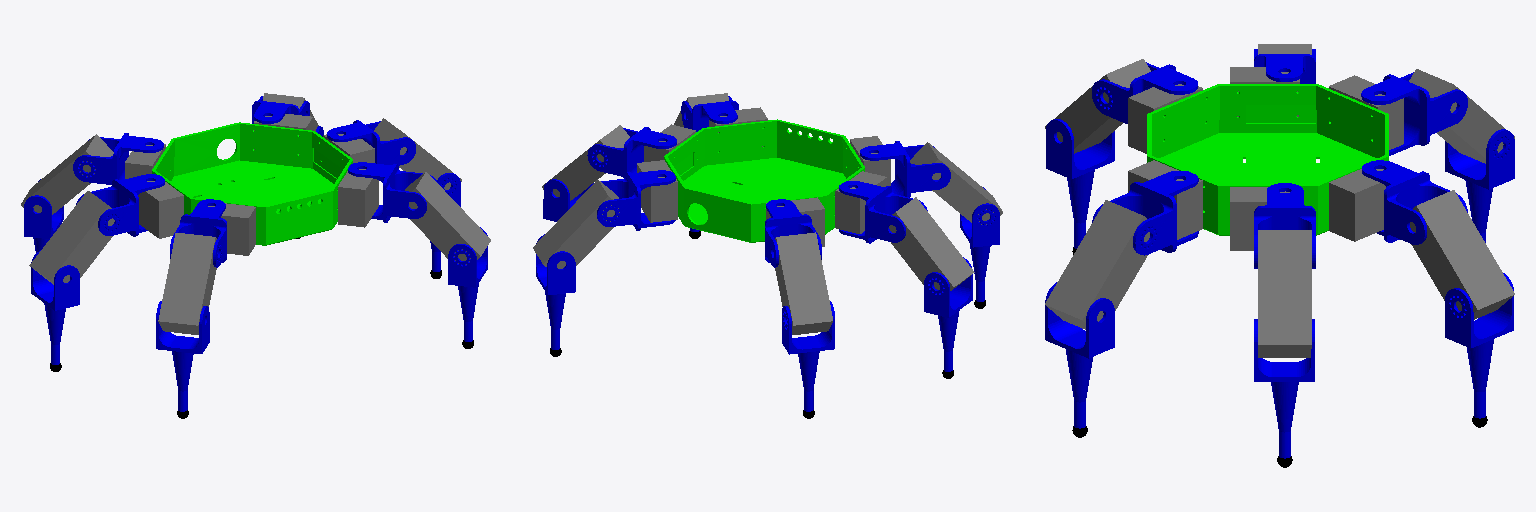
--- Render facts (derived) ---
The picture shows the robot from 3 angles, left to right: view 1: azimuth 30°, elevation 25°; view 2: azimuth 150°, elevation 25°; view 3: azimuth 270°, elevation 25°; orthographic projection.
Model hexapod with 37 links and 36 joints (18 revolute, 18 fixed), rooted at box, posed every joint at zero.
Visible links, largest first — view 1: box, joint_4, joint_0, foot_4, servomotor_16, joint_3, servomotor_17, servomotor_13, foot_5, foot_0, servomotor_12, servomotor_0 (+14 smaller); view 2: box, joint_4, joint_2, joint_5, foot_4, servomotor_10, joint_1, servomotor_11, foot_2, servomotor_13, foot_3, foot_5 (+15 smaller); view 3: box, foot_0, foot_2, joint_0, joint_3, servomotor_5, servomotor_1, joint_2, foot_5, servomotor_7, foot_3, servomotor_6 (+17 smaller).
Boxes of the visible links, bbox=[...] form: box: bbox=[152, 122, 352, 245]; joint_4: bbox=[76, 174, 164, 236]; joint_0: bbox=[348, 162, 437, 222]; foot_4: bbox=[31, 250, 79, 364]; servomotor_16: bbox=[166, 233, 216, 295]; joint_3: bbox=[73, 133, 163, 184]; servomotor_17: bbox=[158, 272, 210, 334]; servomotor_13: bbox=[55, 191, 114, 261]; foot_5: bbox=[156, 301, 209, 411]; foot_0: bbox=[448, 227, 487, 341]; servomotor_12: bbox=[138, 181, 183, 238]; servomotor_0: bbox=[338, 169, 378, 227]; box: bbox=[664, 119, 864, 242]; joint_4: bbox=[839, 181, 927, 243]; joint_2: bbox=[586, 170, 675, 230]; joint_5: bbox=[860, 141, 950, 197]; foot_4: bbox=[924, 257, 972, 371]; servomotor_10: bbox=[775, 232, 825, 295]; joint_1: bbox=[587, 127, 676, 177]; servomotor_11: bbox=[781, 272, 832, 334]; foot_2: bbox=[536, 234, 575, 349]; servomotor_13: bbox=[889, 197, 948, 267]; foot_3: bbox=[782, 301, 834, 411]; foot_5: bbox=[960, 187, 999, 301]; box: bbox=[1147, 84, 1388, 235]; foot_0: bbox=[1045, 282, 1114, 428]; foot_2: bbox=[1445, 273, 1513, 418]; joint_0: bbox=[1092, 171, 1198, 255]; joint_3: bbox=[1361, 72, 1467, 155]; servomotor_5: bbox=[1258, 280, 1311, 357]; servomotor_1: bbox=[1071, 200, 1149, 290]; joint_2: bbox=[1362, 160, 1467, 244]; foot_5: bbox=[1046, 119, 1114, 248]; servomotor_7: bbox=[1410, 190, 1488, 279]; foot_3: bbox=[1445, 129, 1514, 242]; servomotor_6: bbox=[1329, 169, 1385, 241].
Size in the robot's own frame: 0.3985 by 0.3063 by 0.1554 metres.
Meshes: 3 distinct files referenced, 13 mesh visuals loaded (3 binary STL).

robot.urdf — hexapod:
<?xml version="1.0" ?>

<robot name="hexapod">
  <link name="box">
    <!-- We count all component within the box as the box
    (NanoPi, pcb, connectors included) -->
    <collision>
      <origin xyz="0 0 0.203" rpy="0 0 0" />
      <geometry>
        <!-- Putting here an octogone might be a nice optimization -->
        <mesh filename="meshes/box.stl" scale="0.001 0.001 0.001" />
      </geometry>
    </collision>
    <visual>
      <origin xyz="0 0 0.203" rpy="0 0 0" />
      <geometry>
        <mesh filename="meshes/box.stl" scale="0.001 0.001 0.001" />
      </geometry>
      <material name="Green">
        <color rgba="0.0 1.0 0.0 1.0"/>
      </material>
    </visual>
    <inertial>
      <origin xyz="0 0 0.203" rpy="0 0 0" />
      <mass value="0.667" />
      <!-- Let's consider the core of the robot homogeneous -->
      <inertia ixx="0.0011546458242062" ixy="-0.0000000000020962" ixz="-0.0000000000002841" iyy="0.0011546459440935" iyz="-0.0000000000000000" izz="0.0021742915988320" />
    </inertial>
  </link>

  
  <!-- Leg 0 -->
  <joint name="fixed_box_servomotor_0" type="fixed">
    <origin xyz="0.06521292289492935 -0.06521292289492935 0.2041193" rpy="0 0 -0.78539" />
    <parent link="box" />
    <child link="servomotor_0" />
  </joint>
  <link name="servomotor_0">
    <collision>
      <origin xyz="0 -0.002 0" rpy="0 0 0" />
      <geometry>
        <box size="0.024 0.0451 0.0347" />
      </geometry>
    </collision>
    <visual>
      <origin xyz="0 -0.002 0" rpy="0 0 0" />
      <geometry>
        <box size="0.024 0.0451 0.0347" />
      </geometry>
      <material name="Grey">
        <color rgba="0.5 0.5 0.5 1.0"/>
      </material>
    </visual>
    <inertial>
      <origin xyz="0 0 0" rpy="0 0 0" />
      <mass value="0.047" />
      <!-- Let's consider the servomotor homogeneous -->
      <inertia ixx="0.000269" ixy="0" ixz="0" iyy="0.00014834" iyz="0" izz="0.0002175" />
    </inertial>
  </link>
  <joint name="servomotor_0" type="revolute">
    <origin xyz="0 0.011 0" rpy="0 0 0" />
    <parent link="servomotor_0" />
    <child link="joint_0" />
    <axis xyz="0 0 1" />
    <dynamics damping="0" friction="0" /> <!-- TODO -->
    <!-- Herkulex : 361.4°/s i.e. 6.308rad/s, 12kg.cm i.e. 1.18Nm -->
    <limit effort="1.18" velocity="6.308" lower="-0.46" upper="0.46" /> <!-- TODO -->
  </joint>
  <link name="joint_0">
    <collision>
      <origin xyz="0.02432 0 0" rpy="0 0 0" />
      <geometry>
        <box size="0.025 0.040 0.040" />
      </geometry>
    </collision>
    <visual>
      <origin xyz="0.02432 0 0" rpy="0 0 0" />
      <geometry>
        <mesh filename="meshes/joint.stl" scale="0.001 0.001 0.001" />
      </geometry>
      <material name="Blue">
        <color rgba="0.0 0.0 1.0 1.0"/>
      </material>
    </visual>
    <inertial>
      <origin xyz="0.02432 0 0" rpy="0 0 0" />
      <mass value="0.011" />
      <inertia ixx="0.0000036847327983" ixy="0.0000000282538243" ixz="0.0000000324768551" iyy="0.0000040337912502" iyz="-0.0000000006925946" izz="0.0000040276641002" />
    </inertial>
  </link>
  <joint name="servomotor_1" type="revolute">
    <origin xyz="0.049 0 0" rpy="1.5707963267948966 -0.7853981633974483 0" />
    <parent link="joint_0" />
    <child link="servomotor_1" />
    <axis xyz="0 0 1" />
    <dynamics damping="0" friction="0" /> <!-- TODO -->
    <!-- Herkulex : 361.4°/s i.e. 6.308rad/s, 12kg.cm i.e. 1.18Nm -->
    <limit effort="1.18" velocity="6.308" lower="-1.57" upper="1.57" /> <!-- TODO -->
  </joint>
  <link name="servomotor_1">
    <collision>
      <origin xyz="0 -0.0127 0" rpy="0 0 0" />
      <geometry>
        <box size="0.024 0.0451 0.0347" />
      </geometry>
    </collision>
    <visual>
      <origin xyz="0 -0.0127 0" rpy="0 0 0" />
      <geometry>
        <box size="0.024 0.0451 0.0347" />
      </geometry>
      <material name="Grey">
        <color rgba="0.5 0.5 0.5 1.0"/>
      </material>
    </visual>
    <inertial>
      <origin xyz="0 -0.0107 0" rpy="0 0 0" />
      <mass value="0.047" />
      <!-- Let's consider the servomotor homogeneous -->
      <inertia ixx="0.000269" ixy="0" ixz="0" iyy="0.00014834" iyz="0" izz="0.0002175" />
    </inertial>
  </link>
  <joint name="fixed_servomotor_1_servomotor_2" type="fixed">
    <origin xyz="0 -0.0495 0" rpy="0 0 3.141592653589793" />
    <parent link="servomotor_1" />
    <child link="servomotor_2" />
  </joint>
  <link name="servomotor_2">
    <collision>
      <origin xyz="0 -0.002 0" rpy="0 0 0" />
      <geometry>
        <box size="0.024 0.0451 0.0347" />
      </geometry>
    </collision>
    <visual>
      <origin xyz="0 -0.002 0" rpy="0 0 0" />
      <geometry>
        <box size="0.024 0.0451 0.0347" />
      </geometry>
      <material name="Grey">
        <color rgba="0.5 0.5 0.5 1.0"/>
      </material>
    </visual>
    <inertial>
      <origin xyz="0 0 0" rpy="0 0 0" />
      <mass value="0.047" />
      <!-- Let's consider the servomotor homogeneous -->
      <inertia ixx="0.000269" ixy="0" ixz="0" iyy="0.00014834" iyz="0" izz="0.0002175" />
    </inertial>
  </link>
  <joint name="servomotor_2" type="revolute">
    <origin xyz="0 0.0107 0" rpy="0 0 -0.7853981633974483" />
    <parent link="servomotor_2" />
    <child link="foot_0" />
    <axis xyz="0 0 1" />
    <dynamics damping="0" friction="0" /> <!-- TODO -->
    <!-- Herkulex : 361.4°/s i.e. 6.308rad/s, 12kg.cm i.e. 1.18Nm -->
    <limit effort="1.18" velocity="6.308" lower="-1.57" upper="1.57" /> <!-- TODO -->
  </joint>
  <link name="foot_0">
    <collision>
      <origin xyz="0 0.0406 0" rpy="1.5707963267948966 0 0" />
      <geometry>
        <box size="0.024 0.040 0.08" />
      </geometry>
    </collision>
    <visual>
      <origin xyz="0 0.031 0" rpy="1.5707963267948966 0 0" />
      <geometry>
        <mesh filename="meshes/foot.stl" scale="0.001 0.001 0.001" />
      </geometry>
      <material name="Blue">
        <color rgba="0.0 0.0 1.0 1.0"/>
      </material>
    </visual>
    <inertial>
      <origin xyz="0 0.031 0" rpy="1.5707963267948966 0 0" />
      <mass value="0.0105" />
      <inertia ixx="0.0000056249300217" ixy="-0.0000000007514029" ixz="0.0000000005912555" iyy="0.0000045683501941" iyz="0.0000000202704742" izz="0.0000017085021793" />
    </inertial>
  </link>
  <joint name="fixed_foot_0_endcap_0" type="fixed">
    <origin xyz="0 0.088 0" rpy="0 0 0" />
    <parent link="foot_0" />
    <child link="endcap_0" />
  </joint>
  <link name="endcap_0">
    <collision>
      <origin xyz="0 0 0" rpy="0 0 0" />
      <geometry>
        <sphere radius="0.005" />
      </geometry>
    </collision>
    <visual>
      <origin xyz="0 0 0" rpy="0 0 0" />
      <geometry>
        <sphere radius="0.005" />
      </geometry>
      <material name="BlackRubber">
        <color rgba="0.0 0.0 0.0 1.0"/>
      </material>
    </visual>
    <inertial>
      <origin xyz="0 0 0" rpy="0 0 0" />
      <mass value="0.0005" />
      <!-- endcap has a negligeable inertia -->
      <inertia ixx="0.0" ixy="0.0" ixz="0.0" iyy="0.0" iyz="0.0" izz="0.0" />
    </inertial>
    <contact>
      <lateral_friction value="1.0"/> <!-- TODO -->
      <stiffness value="30000"/> <!-- TODO -->
      <damping value="1000"/> <!-- TODO -->
    </contact>
  </link>
  
  <!-- Leg 1 -->
  <joint name="fixed_box_servomotor_3" type="fixed">
    <origin xyz="0.092225 0.0 0.2041193" rpy="0 0 0.0" />
    <parent link="box" />
    <child link="servomotor_3" />
  </joint>
  <link name="servomotor_3">
    <collision>
      <origin xyz="0 -0.002 0" rpy="0 0 0" />
      <geometry>
        <box size="0.024 0.0451 0.0347" />
      </geometry>
    </collision>
    <visual>
      <origin xyz="0 -0.002 0" rpy="0 0 0" />
      <geometry>
        <box size="0.024 0.0451 0.0347" />
      </geometry>
      <material name="Grey">
        <color rgba="0.5 0.5 0.5 1.0"/>
      </material>
    </visual>
    <inertial>
      <origin xyz="0 0 0" rpy="0 0 0" />
      <mass value="0.047" />
      <!-- Let's consider the servomotor homogeneous -->
      <inertia ixx="0.000269" ixy="0" ixz="0" iyy="0.00014834" iyz="0" izz="0.0002175" />
    </inertial>
  </link>
  <joint name="servomotor_3" type="revolute">
    <origin xyz="0 0.011 0" rpy="0 0 0" />
    <parent link="servomotor_3" />
    <child link="joint_1" />
    <axis xyz="0 0 1" />
    <dynamics damping="0" friction="0" /> <!-- TODO -->
    <!-- Herkulex : 361.4°/s i.e. 6.308rad/s, 12kg.cm i.e. 1.18Nm -->
    <limit effort="1.18" velocity="6.308" lower="-0.46" upper="0.46" /> <!-- TODO -->
  </joint>
  <link name="joint_1">
    <collision>
      <origin xyz="0.02432 0 0" rpy="0 0 0" />
      <geometry>
        <box size="0.025 0.040 0.040" />
      </geometry>
    </collision>
    <visual>
      <origin xyz="0.02432 0 0" rpy="0 0 0" />
      <geometry>
        <mesh filename="meshes/joint.stl" scale="0.001 0.001 0.001" />
      </geometry>
      <material name="Blue">
        <color rgba="0.0 0.0 1.0 1.0"/>
      </material>
    </visual>
    <inertial>
      <origin xyz="0.02432 0 0" rpy="0 0 0" />
      <mass value="0.011" />
      <inertia ixx="0.0000036847327983" ixy="0.0000000282538243" ixz="0.0000000324768551" iyy="0.0000040337912502" iyz="-0.0000000006925946" izz="0.0000040276641002" />
    </inertial>
  </link>
  <joint name="servomotor_4" type="revolute">
    <origin xyz="0.049 0 0" rpy="1.5707963267948966 -0.7853981633974483 0" />
    <parent link="joint_1" />
    <child link="servomotor_4" />
    <axis xyz="0 0 1" />
    <dynamics damping="0" friction="0" /> <!-- TODO -->
    <!-- Herkulex : 361.4°/s i.e. 6.308rad/s, 12kg.cm i.e. 1.18Nm -->
    <limit effort="1.18" velocity="6.308" lower="-1.57" upper="1.57" /> <!-- TODO -->
  </joint>
  <link name="servomotor_4">
    <collision>
      <origin xyz="0 -0.0127 0" rpy="0 0 0" />
      <geometry>
        <box size="0.024 0.0451 0.0347" />
      </geometry>
    </collision>
    <visual>
      <origin xyz="0 -0.0127 0" rpy="0 0 0" />
      <geometry>
        <box size="0.024 0.0451 0.0347" />
      </geometry>
      <material name="Grey">
        <color rgba="0.5 0.5 0.5 1.0"/>
      </material>
    </visual>
    <inertial>
      <origin xyz="0 -0.0107 0" rpy="0 0 0" />
      <mass value="0.047" />
      <!-- Let's consider the servomotor homogeneous -->
      <inertia ixx="0.000269" ixy="0" ixz="0" iyy="0.00014834" iyz="0" izz="0.0002175" />
    </inertial>
  </link>
  <joint name="fixed_servomotor_4_servomotor_5" type="fixed">
    <origin xyz="0 -0.0495 0" rpy="0 0 3.141592653589793" />
    <parent link="servomotor_4" />
    <child link="servomotor_5" />
  </joint>
  <link name="servomotor_5">
    <collision>
      <origin xyz="0 -0.002 0" rpy="0 0 0" />
      <geometry>
        <box size="0.024 0.0451 0.0347" />
      </geometry>
    </collision>
    <visual>
      <origin xyz="0 -0.002 0" rpy="0 0 0" />
      <geometry>
        <box size="0.024 0.0451 0.0347" />
      </geometry>
      <material name="Grey">
        <color rgba="0.5 0.5 0.5 1.0"/>
      </material>
    </visual>
    <inertial>
      <origin xyz="0 0 0" rpy="0 0 0" />
      <mass value="0.047" />
      <!-- Let's consider the servomotor homogeneous -->
      <inertia ixx="0.000269" ixy="0" ixz="0" iyy="0.00014834" iyz="0" izz="0.0002175" />
    </inertial>
  </link>
  <joint name="servomotor_5" type="revolute">
    <origin xyz="0 0.0107 0" rpy="0 0 -0.7853981633974483" />
    <parent link="servomotor_5" />
    <child link="foot_1" />
    <axis xyz="0 0 1" />
    <dynamics damping="0" friction="0" /> <!-- TODO -->
    <!-- Herkulex : 361.4°/s i.e. 6.308rad/s, 12kg.cm i.e. 1.18Nm -->
    <limit effort="1.18" velocity="6.308" lower="-1.57" upper="1.57" /> <!-- TODO -->
  </joint>
  <link name="foot_1">
    <collision>
      <origin xyz="0 0.0406 0" rpy="1.5707963267948966 0 0" />
      <geometry>
        <box size="0.024 0.040 0.08" />
      </geometry>
    </collision>
    <visual>
      <origin xyz="0 0.031 0" rpy="1.5707963267948966 0 0" />
      <geometry>
        <mesh filename="meshes/foot.stl" scale="0.001 0.001 0.001" />
      </geometry>
      <material name="Blue">
        <color rgba="0.0 0.0 1.0 1.0"/>
      </material>
    </visual>
    <inertial>
      <origin xyz="0 0.031 0" rpy="1.5707963267948966 0 0" />
      <mass value="0.0105" />
      <inertia ixx="0.0000056249300217" ixy="-0.0000000007514029" ixz="0.0000000005912555" iyy="0.0000045683501941" iyz="0.0000000202704742" izz="0.0000017085021793" />
    </inertial>
  </link>
  <joint name="fixed_foot_1_endcap_1" type="fixed">
    <origin xyz="0 0.088 0" rpy="0 0 0" />
    <parent link="foot_1" />
    <child link="endcap_1" />
  </joint>
  <link name="endcap_1">
    <collision>
      <origin xyz="0 0 0" rpy="0 0 0" />
      <geometry>
        <sphere radius="0.005" />
      </geometry>
    </collision>
    <visual>
      <origin xyz="0 0 0" rpy="0 0 0" />
      <geometry>
        <sphere radius="0.005" />
      </geometry>
      <material name="BlackRubber">
        <color rgba="0.0 0.0 0.0 1.0"/>
      </material>
    </visual>
    <inertial>
      <origin xyz="0 0 0" rpy="0 0 0" />
      <mass value="0.0005" />
      <!-- endcap has a negligeable inertia -->
      <inertia ixx="0.0" ixy="0.0" ixz="0.0" iyy="0.0" iyz="0.0" izz="0.0" />
    </inertial>
    <contact>
      <lateral_friction value="1.0"/> <!-- TODO -->
      <stiffness value="30000"/> <!-- TODO -->
      <damping value="1000"/> <!-- TODO -->
    </contact>
  </link>
  
  <!-- Leg 2 -->
  <joint name="fixed_box_servomotor_6" type="fixed">
    <origin xyz="0.06521292289492935 0.06521292289492935 0.2041193" rpy="0 0 0.78539" />
    <parent link="box" />
    <child link="servomotor_6" />
  </joint>
  <link name="servomotor_6">
    <collision>
      <origin xyz="0 -0.002 0" rpy="0 0 0" />
      <geometry>
        <box size="0.024 0.0451 0.0347" />
      </geometry>
    </collision>
    <visual>
      <origin xyz="0 -0.002 0" rpy="0 0 0" />
      <geometry>
        <box size="0.024 0.0451 0.0347" />
      </geometry>
      <material name="Grey">
        <color rgba="0.5 0.5 0.5 1.0"/>
      </material>
    </visual>
    <inertial>
      <origin xyz="0 0 0" rpy="0 0 0" />
      <mass value="0.047" />
      <!-- Let's consider the servomotor homogeneous -->
      <inertia ixx="0.000269" ixy="0" ixz="0" iyy="0.00014834" iyz="0" izz="0.0002175" />
    </inertial>
  </link>
  <joint name="servomotor_6" type="revolute">
    <origin xyz="0 0.011 0" rpy="0 0 0" />
    <parent link="servomotor_6" />
    <child link="joint_2" />
    <axis xyz="0 0 1" />
    <dynamics damping="0" friction="0" /> <!-- TODO -->
    <!-- Herkulex : 361.4°/s i.e. 6.308rad/s, 12kg.cm i.e. 1.18Nm -->
    <limit effort="1.18" velocity="6.308" lower="-0.46" upper="0.46" /> <!-- TODO -->
  </joint>
  <link name="joint_2">
    <collision>
      <origin xyz="0.02432 0 0" rpy="0 0 0" />
      <geometry>
        <box size="0.025 0.040 0.040" />
      </geometry>
    </collision>
    <visual>
      <origin xyz="0.02432 0 0" rpy="0 0 0" />
      <geometry>
        <mesh filename="meshes/joint.stl" scale="0.001 0.001 0.001" />
      </geometry>
      <material name="Blue">
        <color rgba="0.0 0.0 1.0 1.0"/>
      </material>
    </visual>
    <inertial>
      <origin xyz="0.02432 0 0" rpy="0 0 0" />
      <mass value="0.011" />
      <inertia ixx="0.0000036847327983" ixy="0.0000000282538243" ixz="0.0000000324768551" iyy="0.0000040337912502" iyz="-0.0000000006925946" izz="0.0000040276641002" />
    </inertial>
  </link>
  <joint name="servomotor_7" type="revolute">
    <origin xyz="0.049 0 0" rpy="1.5707963267948966 -0.7853981633974483 0" />
    <parent link="joint_2" />
    <child link="servomotor_7" />
    <axis xyz="0 0 1" />
    <dynamics damping="0" friction="0" /> <!-- TODO -->
    <!-- Herkulex : 361.4°/s i.e. 6.308rad/s, 12kg.cm i.e. 1.18Nm -->
    <limit effort="1.18" velocity="6.308" lower="-1.57" upper="1.57" /> <!-- TODO -->
  </joint>
  <link name="servomotor_7">
    <collision>
      <origin xyz="0 -0.0127 0" rpy="0 0 0" />
      <geometry>
        <box size="0.024 0.0451 0.0347" />
      </geometry>
    </collision>
    <visual>
      <origin xyz="0 -0.0127 0" rpy="0 0 0" />
      <geometry>
        <box size="0.024 0.0451 0.0347" />
      </geometry>
      <material name="Grey">
        <color rgba="0.5 0.5 0.5 1.0"/>
      </material>
    </visual>
    <inertial>
      <origin xyz="0 -0.0107 0" rpy="0 0 0" />
      <mass value="0.047" />
      <!-- Let's consider the servomotor homogeneous -->
      <inertia ixx="0.000269" ixy="0" ixz="0" iyy="0.00014834" iyz="0" izz="0.0002175" />
    </inertial>
  </link>
  <joint name="fixed_servomotor_7_servomotor_8" type="fixed">
    <origin xyz="0 -0.0495 0" rpy="0 0 3.141592653589793" />
    <parent link="servomotor_7" />
    <child link="servomotor_8" />
  </joint>
  <link name="servomotor_8">
    <collision>
      <origin xyz="0 -0.002 0" rpy="0 0 0" />
      <geometry>
        <box size="0.024 0.0451 0.0347" />
      </geometry>
    </collision>
    <visual>
      <origin xyz="0 -0.002 0" rpy="0 0 0" />
      <geometry>
        <box size="0.024 0.0451 0.0347" />
      </geometry>
      <material name="Grey">
        <color rgba="0.5 0.5 0.5 1.0"/>
      </material>
    </visual>
    <inertial>
      <origin xyz="0 0 0" rpy="0 0 0" />
      <mass value="0.047" />
      <!-- Let's consider the servomotor homogeneous -->
      <inertia ixx="0.000269" ixy="0" ixz="0" iyy="0.00014834" iyz="0" izz="0.0002175" />
    </inertial>
  </link>
  <joint name="servomotor_8" type="revolute">
    <origin xyz="0 0.0107 0" rpy="0 0 -0.7853981633974483" />
    <parent link="servomotor_8" />
    <child link="foot_2" />
    <axis xyz="0 0 1" />
    <dynamics damping="0" friction="0" /> <!-- TODO -->
    <!-- Herkulex : 361.4°/s i.e. 6.308rad/s, 12kg.cm i.e. 1.18Nm -->
    <limit effort="1.18" velocity="6.308" lower="-1.57" upper="1.57" /> <!-- TODO -->
  </joint>
  <link name="foot_2">
    <collision>
      <origin xyz="0 0.0406 0" rpy="1.5707963267948966 0 0" />
      <geometry>
        <box size="0.024 0.040 0.08" />
      </geometry>
    </collision>
    <visual>
      <origin xyz="0 0.031 0" rpy="1.5707963267948966 0 0" />
      <geometry>
        <mesh filename="meshes/foot.stl" scale="0.001 0.001 0.001" />
      </geometry>
      <material name="Blue">
        <color rgba="0.0 0.0 1.0 1.0"/>
      </material>
    </visual>
    <inertial>
      <origin xyz="0 0.031 0" rpy="1.5707963267948966 0 0" />
      <mass value="0.0105" />
      <inertia ixx="0.0000056249300217" ixy="-0.0000000007514029" ixz="0.0000000005912555" iyy="0.0000045683501941" iyz="0.0000000202704742" izz="0.0000017085021793" />
    </inertial>
  </link>
  <joint name="fixed_foot_2_endcap_2" type="fixed">
    <origin xyz="0 0.088 0" rpy="0 0 0" />
    <parent link="foot_2" />
    <child link="endcap_2" />
  </joint>
  <link name="endcap_2">
    <collision>
      <origin xyz="0 0 0" rpy="0 0 0" />
      <geometry>
        <sphere radius="0.005" />
      </geometry>
    </collision>
    <visual>
      <origin xyz="0 0 0" rpy="0 0 0" />
      <geometry>
        <sphere radius="0.005" />
      </geometry>
      <material name="BlackRubber">
        <color rgba="0.0 0.0 0.0 1.0"/>
      </material>
    </visual>
    <inertial>
      <origin xyz="0 0 0" rpy="0 0 0" />
      <mass value="0.0005" />
      <!-- endcap has a negligeable inertia -->
      <inertia ixx="0.0" ixy="0.0" ixz="0.0" iyy="0.0" iyz="0.0" izz="0.0" />
    </inertial>
    <contact>
      <lateral_friction value="1.0"/> <!-- TODO -->
      <stiffness value="30000"/> <!-- TODO -->
      <damping value="1000"/> <!-- TODO -->
    </contact>
  </link>
  

  
  <!-- Leg 3 -->
  <joint name="fixed_box_servomotor_9" type="fixed">
    <origin xyz="-0.06521292289492935 0.06521292289492935 0.2041193" rpy="0 0 -0.78539" />
    <parent link="box" />
    <child link="servomotor_9" />
  </joint>
  <link name="servomotor_9">
    <collision>
      <origin xyz="0 -0.002 0" rpy="0 0 0" />
      <geometry>
        <box size="0.024 0.0451 0.0347" />
      </geometry>
    </collision>
    <visual>
      <origin xyz="0 -0.002 0" rpy="0 0 0" />
      <geometry>
        <box size="0.024 0.0451 0.0347" />
      </geometry>
      <material name="Grey">
        <color rgba="0.5 0.5 0.5 1.0"/>
      </material>
    </visual>
    <inertial>
      <origin xyz="0 0 0" rpy="0 0 0" />
      <mass value="0.047" />
      <!-- Let's consider the servomotor homogeneous -->
      <inertia ixx="0.000269" ixy="0" ixz="0" iyy="0.00014834" iyz="0" izz="0.0002175" />
    </inertial>
  </link>
  <joint name="servomotor_9" type="revolute">
    <origin xyz="0 0.011 0" rpy="0 0 3.141592653589793" />
    <parent link="servomotor_9" />
    <child link="joint_3" />
    <axis xyz="0 0 1" />
    <dynamics damping="0" friction="0" /> <!-- TODO -->
    <!-- Herkulex : 361.4°/s i.e. 6.308rad/s, 12kg.cm i.e. 1.18Nm -->
    <limit effort="1.18" velocity="6.308" lower="-0.46" upper="0.46" /> <!-- TODO -->
  </joint>
  <link name="joint_3">
    <collision>
      <origin xyz="0.02432 0 0" rpy="0 0 0" />
      <geometry>
        <box size="0.025 0.040 0.040" />
      </geometry>
    </collision>
    <visual>
      <origin xyz="0.02432 0 0" rpy="0 0 0" />
      <geometry>
        <mesh filename="meshes/joint.stl" scale="0.001 0.001 0.001" />
      </geometry>
      <material name="Blue">
        <color rgba="0.0 0.0 1.0 1.0"/>
      </material>
    </visual>
    <inertial>
      <origin xyz="0.02432 0 0" rpy="0 0 0" />
      <mass value="0.011" />
      <inertia ixx="0.0000036847327983" ixy="0.0000000282538243" ixz="0.0000000324768551" iyy="0.0000040337912502" iyz="-0.0000000006925946" izz="0.0000040276641002" />
    </inertial>
  </link>
  <joint name="servomotor_10" type="revolute">
    <origin xyz="0.049 0 0" rpy="1.5707963267948966 -0.7853981633974483 0" />
    <parent link="joint_3" />
    <child link="servomotor_10" />
    <axis xyz="0 0 1" />
    <dynamics damping="0" friction="0" /> <!-- TODO -->
    <!-- Herkulex : 361.4°/s i.e. 6.308rad/s, 12kg.cm i.e. 1.18Nm -->
    <limit effort="1.18" velocity="6.308" lower="-1.57" upper="1.57" /> <!-- TODO -->
  </joint>
  <link name="servomotor_10">
    <collision>
      <origin xyz="0 -0.0127 0" rpy="0 0 0" />
      <geometry>
        <box size="0.024 0.0451 0.0347" />
      </geometry>
    </collision>
    <visual>
      <origin xyz="0 -0.0127 0" rpy="0 0 0" />
      <geometry>
        <box size="0.024 0.0451 0.0347" />
      </geometry>
      <material name="Grey">
        <color rgba="0.5 0.5 0.5 1.0"/>
      </material>
    </visual>
    <inertial>
      <origin xyz="0 -0.0107 0" rpy="0 0 0" />
      <mass value="0.047" />
      <!-- Let's consider the servomotor homogeneous -->
      <inertia ixx="0.000269" ixy="0" ixz="0" iyy="0.00014834" iyz="0" izz="0.0002175" />
    </inertial>
  </link>
  <joint name="fixed_servomotor_10_servomotor_11" type="fixed">
    <origin xyz="0 -0.0495 0" rpy="0 0 3.141592653589793" />
    <parent link="servomotor_10" />
    <child link="servomotor_11" />
  </joint>
  <link name="servomotor_11">
    <collision>
      <origin xyz="0 -0.002 0" rpy="0 0 0" />
      <geometry>
        <box size="0.024 0.0451 0.0347" />
      </geometry>
    </collision>
    <visual>
      <origin xyz="0 -0.002 0" rpy="0 0 0" />
      <geometry>
        <box size="0.024 0.0451 0.0347" />
      </geometry>
      <material name="Grey">
        <color rgba="0.5 0.5 0.5 1.0"/>
      </material>
    </visual>
    <inertial>
      <origin xyz="0 0 0" rpy="0 0 0" />
      <mass value="0.047" />
      <!-- Let's consider the servomotor homogeneous -->
      <inertia ixx="0.000269" ixy="0" ixz="0" iyy="0.00014834" iyz="0" izz="0.0002175" />
    </inertial>
  </link>
  <joint name="servomotor_11" type="revolute">
    <origin xyz="0 0.0107 0" rpy="0 0 -0.7853981633974483" />
    <parent link="servomotor_11" />
    <child link="foot_3" />
    <axis xyz="0 0 1" />
    <dynamics damping="0" friction="0" /> <!-- TODO -->
    <!-- Herkulex : 361.4°/s i.e. 6.308rad/s, 12kg.cm i.e. 1.18Nm -->
    <limit effort="1.18" velocity="6.308" lower="-1.57" upper="1.57" /> <!-- TODO -->
  </joint>
  <link name="foot_3">
    <collision>
      <origin xyz="0 0.0406 0" rpy="1.5707963267948966 0 0" />
      <geometry>
        <box size="0.024 0.040 0.08" />
      </geometry>
    </collision>
    <visual>
      <origin xyz="0 0.031 0" rpy="1.5707963267948966 0 0" />
      <geometry>
        <mesh filename="meshes/foot.stl" scale="0.001 0.001 0.001" />
      </geometry>
      <material name="Blue">
        <color rgba="0.0 0.0 1.0 1.0"/>
      </material>
    </visual>
    <inertial>
      <origin xyz="0 0.031 0" rpy="1.5707963267948966 0 0" />
      <mass value="0.0105" />
      <inertia ixx="0.0000056249300217" ixy="-0.0000000007514029" ixz="0.0000000005912555" iyy="0.0000045683501941" iyz="0.0000000202704742" izz="0.0000017085021793" />
    </inertial>
  </link>
  <joint name="fixed_foot_3_endcap_3" type="fixed">
    <origin xyz="0 0.088 0" rpy="0 0 0" />
    <parent link="foot_3" />
    <child link="endcap_3" />
  </joint>
  <link name="endcap_3">
    <collision>
      <origin xyz="0 0 0" rpy="0 0 0" />
      <geometry>
        <sphere radius="0.005" />
      </geometry>
    </collision>
    <visual>
      <origin xyz="0 0 0" rpy="0 0 0" />
      <geometry>
        <sphere radius="0.005" />
      </geometry>
      <material name="BlackRubber">
        <color rgba="0.0 0.0 0.0 1.0"/>
      </material>
    </visual>
    <inertial>
      <origin xyz="0 0 0" rpy="0 0 0" />
      <mass value="0.0005" />
      <!-- endcap has a negligeable inertia -->
      <inertia ixx="0.0" ixy="0.0" ixz="0.0" iyy="0.0" iyz="0.0" izz="0.0" />
    </inertial>
    <contact>
      <lateral_friction value="1.0"/> <!-- TODO -->
      <stiffness value="30000"/> <!-- TODO -->
      <damping value="1000"/> <!-- TODO -->
    </contact>
  </link>
  
  <!-- Leg 4 -->
  <joint name="fixed_box_servomotor_12" type="fixed">
    <origin xyz="-0.092225 -0.0 0.2041193" rpy="0 0 0.0" />
    <parent link="box" />
    <child link="servomotor_12" />
  </joint>
  <link name="servomotor_12">
    <collision>
      <origin xyz="0 -0.002 0" rpy="0 0 0" />
      <geometry>
        <box size="0.024 0.0451 0.0347" />
      </geometry>
    </collision>
    <visual>
      <origin xyz="0 -0.002 0" rpy="0 0 0" />
      <geometry>
        <box size="0.024 0.0451 0.0347" />
      </geometry>
      <material name="Grey">
        <color rgba="0.5 0.5 0.5 1.0"/>
      </material>
    </visual>
    <inertial>
      <origin xyz="0 0 0" rpy="0 0 0" />
      <mass value="0.047" />
      <!-- Let's consider the servomotor homogeneous -->
      <inertia ixx="0.000269" ixy="0" ixz="0" iyy="0.00014834" iyz="0" izz="0.0002175" />
    </inertial>
  </link>
  <joint name="servomotor_12" type="revolute">
    <origin xyz="0 0.011 0" rpy="0 0 3.141592653589793" />
    <parent link="servomotor_12" />
    <child link="joint_4" />
    <axis xyz="0 0 1" />
    <dynamics damping="0" friction="0" /> <!-- TODO -->
    <!-- Herkulex : 361.4°/s i.e. 6.308rad/s, 12kg.cm i.e. 1.18Nm -->
    <limit effort="1.18" velocity="6.308" lower="-0.46" upper="0.46" /> <!-- TODO -->
  </joint>
  <link name="joint_4">
    <collision>
      <origin xyz="0.02432 0 0" rpy="0 0 0" />
      <geometry>
        <box size="0.025 0.040 0.040" />
      </geometry>
    </collision>
    <visual>
      <origin xyz="0.02432 0 0" rpy="0 0 0" />
      <geometry>
        <mesh filename="meshes/joint.stl" scale="0.001 0.001 0.001" />
      </geometry>
      <material name="Blue">
        <color rgba="0.0 0.0 1.0 1.0"/>
      </material>
    </visual>
    <inertial>
      <origin xyz="0.02432 0 0" rpy="0 0 0" />
      <mass value="0.011" />
      <inertia ixx="0.0000036847327983" ixy="0.0000000282538243" ixz="0.0000000324768551" iyy="0.0000040337912502" iyz="-0.0000000006925946" izz="0.0000040276641002" />
    </inertial>
  </link>
  <joint name="servomotor_13" type="revolute">
    <origin xyz="0.049 0 0" rpy="1.5707963267948966 -0.7853981633974483 0" />
    <parent link="joint_4" />
    <child link="servomotor_13" />
    <axis xyz="0 0 1" />
    <dynamics damping="0" friction="0" /> <!-- TODO -->
    <!-- Herkulex : 361.4°/s i.e. 6.308rad/s, 12kg.cm i.e. 1.18Nm -->
    <limit effort="1.18" velocity="6.308" lower="-1.57" upper="1.57" /> <!-- TODO -->
  </joint>
  <link name="servomotor_13">
    <collision>
      <origin xyz="0 -0.0127 0" rpy="0 0 0" />
      <geometry>
        <box size="0.024 0.0451 0.0347" />
      </geometry>
    </collision>
    <visual>
      <origin xyz="0 -0.0127 0" rpy="0 0 0" />
      <geometry>
        <box size="0.024 0.0451 0.0347" />
      </geometry>
      <material name="Grey">
        <color rgba="0.5 0.5 0.5 1.0"/>
      </material>
    </visual>
    <inertial>
      <origin xyz="0 -0.0107 0" rpy="0 0 0" />
      <mass value="0.047" />
      <!-- Let's consider the servomotor homogeneous -->
      <inertia ixx="0.000269" ixy="0" ixz="0" iyy="0.00014834" iyz="0" izz="0.0002175" />
    </inertial>
  </link>
  <joint name="fixed_servomotor_13_servomotor_14" type="fixed">
    <origin xyz="0 -0.0495 0" rpy="0 0 3.141592653589793" />
    <parent link="servomotor_13" />
    <child link="servomotor_14" />
  </joint>
  <link name="servomotor_14">
    <collision>
      <origin xyz="0 -0.002 0" rpy="0 0 0" />
      <geometry>
        <box size="0.024 0.0451 0.0347" />
      </geometry>
    </collision>
    <visual>
      <origin xyz="0 -0.002 0" rpy="0 0 0" />
      <geometry>
        <box size="0.024 0.0451 0.0347" />
      </geometry>
      <material name="Grey">
        <color rgba="0.5 0.5 0.5 1.0"/>
      </material>
    </visual>
    <inertial>
      <origin xyz="0 0 0" rpy="0 0 0" />
      <mass value="0.047" />
      <!-- Let's consider the servomotor homogeneous -->
      <inertia ixx="0.000269" ixy="0" ixz="0" iyy="0.00014834" iyz="0" izz="0.0002175" />
    </inertial>
  </link>
  <joint name="servomotor_14" type="revolute">
    <origin xyz="0 0.0107 0" rpy="0 0 -0.7853981633974483" />
    <parent link="servomotor_14" />
    <child link="foot_4" />
    <axis xyz="0 0 1" />
    <dynamics damping="0" friction="0" /> <!-- TODO -->
    <!-- Herkulex : 361.4°/s i.e. 6.308rad/s, 12kg.cm i.e. 1.18Nm -->
    <limit effort="1.18" velocity="6.308" lower="-1.57" upper="1.57" /> <!-- TODO -->
  </joint>
  <link name="foot_4">
    <collision>
      <origin xyz="0 0.0406 0" rpy="1.5707963267948966 0 0" />
      <geometry>
        <box size="0.024 0.040 0.08" />
      </geometry>
    </collision>
    <visual>
      <origin xyz="0 0.031 0" rpy="1.5707963267948966 0 0" />
      <geometry>
        <mesh filename="meshes/foot.stl" scale="0.001 0.001 0.001" />
      </geometry>
      <material name="Blue">
        <color rgba="0.0 0.0 1.0 1.0"/>
      </material>
    </visual>
    <inertial>
      <origin xyz="0 0.031 0" rpy="1.5707963267948966 0 0" />
      <mass value="0.0105" />
      <inertia ixx="0.0000056249300217" ixy="-0.0000000007514029" ixz="0.0000000005912555" iyy="0.0000045683501941" iyz="0.0000000202704742" izz="0.0000017085021793" />
    </inertial>
  </link>
  <joint name="fixed_foot_4_endcap_4" type="fixed">
    <origin xyz="0 0.088 0" rpy="0 0 0" />
    <parent link="foot_4" />
    <child link="endcap_4" />
  </joint>
  <link name="endcap_4">
    <collision>
      <origin xyz="0 0 0" rpy="0 0 0" />
      <geometry>
        <sphere radius="0.005" />
      </geometry>
    </collision>
    <visual>
      <origin xyz="0 0 0" rpy="0 0 0" />
      <geometry>
        <sphere radius="0.005" />
      </geometry>
      <material name="BlackRubber">
        <color rgba="0.0 0.0 0.0 1.0"/>
      </material>
    </visual>
    <inertial>
      <origin xyz="0 0 0" rpy="0 0 0" />
      <mass value="0.0005" />
      <!-- endcap has a negligeable inertia -->
      <inertia ixx="0.0" ixy="0.0" ixz="0.0" iyy="0.0" iyz="0.0" izz="0.0" />
    </inertial>
    <contact>
      <lateral_friction value="1.0"/> <!-- TODO -->
      <stiffness value="30000"/> <!-- TODO -->
      <damping value="1000"/> <!-- TODO -->
    </contact>
  </link>
  
  <!-- Leg 5 -->
  <joint name="fixed_box_servomotor_15" type="fixed">
    <origin xyz="-0.06521292289492935 -0.06521292289492935 0.2041193" rpy="0 0 0.78539" />
    <parent link="box" />
    <child link="servomotor_15" />
  </joint>
  <link name="servomotor_15">
    <collision>
      <origin xyz="0 -0.002 0" rpy="0 0 0" />
      <geometry>
        <box size="0.024 0.0451 0.0347" />
      </geometry>
    </collision>
    <visual>
      <origin xyz="0 -0.002 0" rpy="0 0 0" />
      <geometry>
        <box size="0.024 0.0451 0.0347" />
      </geometry>
      <material name="Grey">
        <color rgba="0.5 0.5 0.5 1.0"/>
      </material>
    </visual>
    <inertial>
      <origin xyz="0 0 0" rpy="0 0 0" />
      <mass value="0.047" />
      <!-- Let's consider the servomotor homogeneous -->
      <inertia ixx="0.000269" ixy="0" ixz="0" iyy="0.00014834" iyz="0" izz="0.0002175" />
    </inertial>
  </link>
  <joint name="servomotor_15" type="revolute">
    <origin xyz="0 0.011 0" rpy="0 0 3.141592653589793" />
    <parent link="servomotor_15" />
    <child link="joint_5" />
    <axis xyz="0 0 1" />
    <dynamics damping="0" friction="0" /> <!-- TODO -->
    <!-- Herkulex : 361.4°/s i.e. 6.308rad/s, 12kg.cm i.e. 1.18Nm -->
    <limit effort="1.18" velocity="6.308" lower="-0.46" upper="0.46" /> <!-- TODO -->
  </joint>
  <link name="joint_5">
    <collision>
      <origin xyz="0.02432 0 0" rpy="0 0 0" />
      <geometry>
        <box size="0.025 0.040 0.040" />
      </geometry>
    </collision>
    <visual>
      <origin xyz="0.02432 0 0" rpy="0 0 0" />
      <geometry>
        <mesh filename="meshes/joint.stl" scale="0.001 0.001 0.001" />
      </geometry>
      <material name="Blue">
        <color rgba="0.0 0.0 1.0 1.0"/>
      </material>
    </visual>
    <inertial>
      <origin xyz="0.02432 0 0" rpy="0 0 0" />
      <mass value="0.011" />
      <inertia ixx="0.0000036847327983" ixy="0.0000000282538243" ixz="0.0000000324768551" iyy="0.0000040337912502" iyz="-0.0000000006925946" izz="0.0000040276641002" />
    </inertial>
  </link>
  <joint name="servomotor_16" type="revolute">
    <origin xyz="0.049 0 0" rpy="1.5707963267948966 -0.7853981633974483 0" />
    <parent link="joint_5" />
    <child link="servomotor_16" />
    <axis xyz="0 0 1" />
    <dynamics damping="0" friction="0" /> <!-- TODO -->
    <!-- Herkulex : 361.4°/s i.e. 6.308rad/s, 12kg.cm i.e. 1.18Nm -->
    <limit effort="1.18" velocity="6.308" lower="-1.57" upper="1.57" /> <!-- TODO -->
  </joint>
  <link name="servomotor_16">
    <collision>
      <origin xyz="0 -0.0127 0" rpy="0 0 0" />
      <geometry>
        <box size="0.024 0.0451 0.0347" />
      </geometry>
    </collision>
    <visual>
      <origin xyz="0 -0.0127 0" rpy="0 0 0" />
      <geometry>
        <box size="0.024 0.0451 0.0347" />
      </geometry>
      <material name="Grey">
        <color rgba="0.5 0.5 0.5 1.0"/>
      </material>
    </visual>
    <inertial>
      <origin xyz="0 -0.0107 0" rpy="0 0 0" />
      <mass value="0.047" />
      <!-- Let's consider the servomotor homogeneous -->
      <inertia ixx="0.000269" ixy="0" ixz="0" iyy="0.00014834" iyz="0" izz="0.0002175" />
    </inertial>
  </link>
  <joint name="fixed_servomotor_16_servomotor_17" type="fixed">
    <origin xyz="0 -0.0495 0" rpy="0 0 3.141592653589793" />
    <parent link="servomotor_16" />
    <child link="servomotor_17" />
  </joint>
  <link name="servomotor_17">
    <collision>
      <origin xyz="0 -0.002 0" rpy="0 0 0" />
      <geometry>
        <box size="0.024 0.0451 0.0347" />
      </geometry>
    </collision>
    <visual>
      <origin xyz="0 -0.002 0" rpy="0 0 0" />
      <geometry>
        <box size="0.024 0.0451 0.0347" />
      </geometry>
      <material name="Grey">
        <color rgba="0.5 0.5 0.5 1.0"/>
      </material>
    </visual>
    <inertial>
      <origin xyz="0 0 0" rpy="0 0 0" />
      <mass value="0.047" />
      <!-- Let's consider the servomotor homogeneous -->
      <inertia ixx="0.000269" ixy="0" ixz="0" iyy="0.00014834" iyz="0" izz="0.0002175" />
    </inertial>
  </link>
  <joint name="servomotor_17" type="revolute">
    <origin xyz="0 0.0107 0" rpy="0 0 -0.7853981633974483" />
    <parent link="servomotor_17" />
    <child link="foot_5" />
    <axis xyz="0 0 1" />
    <dynamics damping="0" friction="0" /> <!-- TODO -->
    <!-- Herkulex : 361.4°/s i.e. 6.308rad/s, 12kg.cm i.e. 1.18Nm -->
    <limit effort="1.18" velocity="6.308" lower="-1.57" upper="1.57" /> <!-- TODO -->
  </joint>
  <link name="foot_5">
    <collision>
      <origin xyz="0 0.0406 0" rpy="1.5707963267948966 0 0" />
      <geometry>
        <box size="0.024 0.040 0.08" />
      </geometry>
    </collision>
    <visual>
      <origin xyz="0 0.031 0" rpy="1.5707963267948966 0 0" />
      <geometry>
        <mesh filename="meshes/foot.stl" scale="0.001 0.001 0.001" />
      </geometry>
      <material name="Blue">
        <color rgba="0.0 0.0 1.0 1.0"/>
      </material>
    </visual>
    <inertial>
      <origin xyz="0 0.031 0" rpy="1.5707963267948966 0 0" />
      <mass value="0.0105" />
      <inertia ixx="0.0000056249300217" ixy="-0.0000000007514029" ixz="0.0000000005912555" iyy="0.0000045683501941" iyz="0.0000000202704742" izz="0.0000017085021793" />
    </inertial>
  </link>
  <joint name="fixed_foot_5_endcap_5" type="fixed">
    <origin xyz="0 0.088 0" rpy="0 0 0" />
    <parent link="foot_5" />
    <child link="endcap_5" />
  </joint>
  <link name="endcap_5">
    <collision>
      <origin xyz="0 0 0" rpy="0 0 0" />
      <geometry>
        <sphere radius="0.005" />
      </geometry>
    </collision>
    <visual>
      <origin xyz="0 0 0" rpy="0 0 0" />
      <geometry>
        <sphere radius="0.005" />
      </geometry>
      <material name="BlackRubber">
        <color rgba="0.0 0.0 0.0 1.0"/>
      </material>
    </visual>
    <inertial>
      <origin xyz="0 0 0" rpy="0 0 0" />
      <mass value="0.0005" />
      <!-- endcap has a negligeable inertia -->
      <inertia ixx="0.0" ixy="0.0" ixz="0.0" iyy="0.0" iyz="0.0" izz="0.0" />
    </inertial>
    <contact>
      <lateral_friction value="1.0"/> <!-- TODO -->
      <stiffness value="30000"/> <!-- TODO -->
      <damping value="1000"/> <!-- TODO -->
    </contact>
  </link>
  
</robot>
